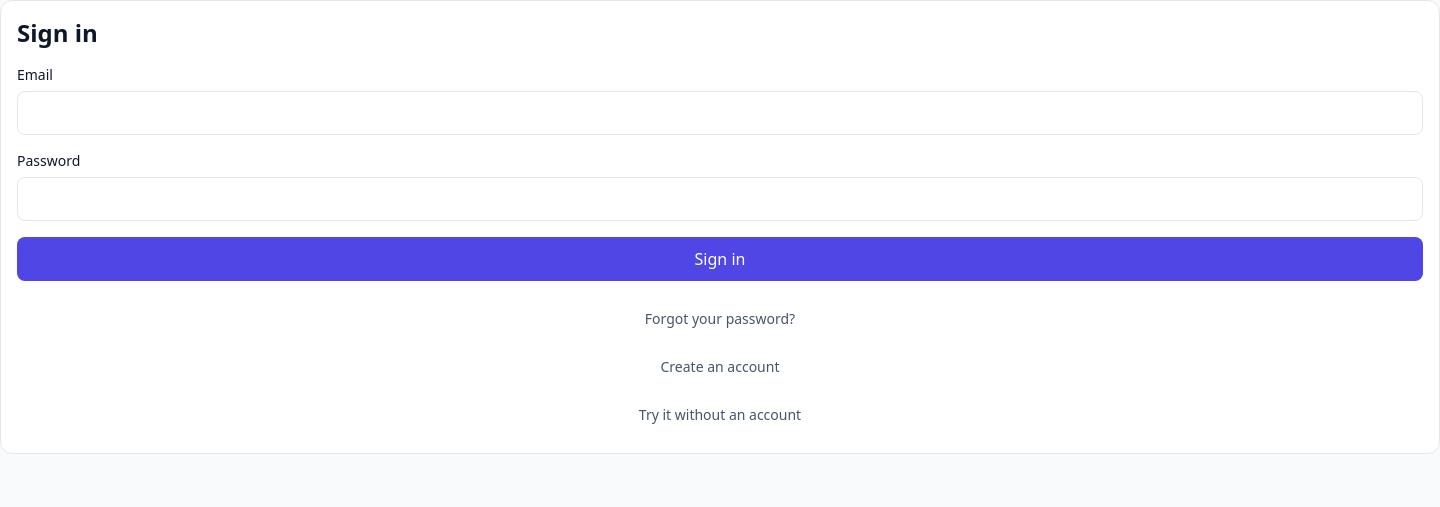
AuthForm › shows a friendly error when Supabase refuses
Type "sam@example.com" into the field labelled "Email".
click(720, 113); type("sam@example.com")  # box x1=17 y1=91 x2=1423 y2=135
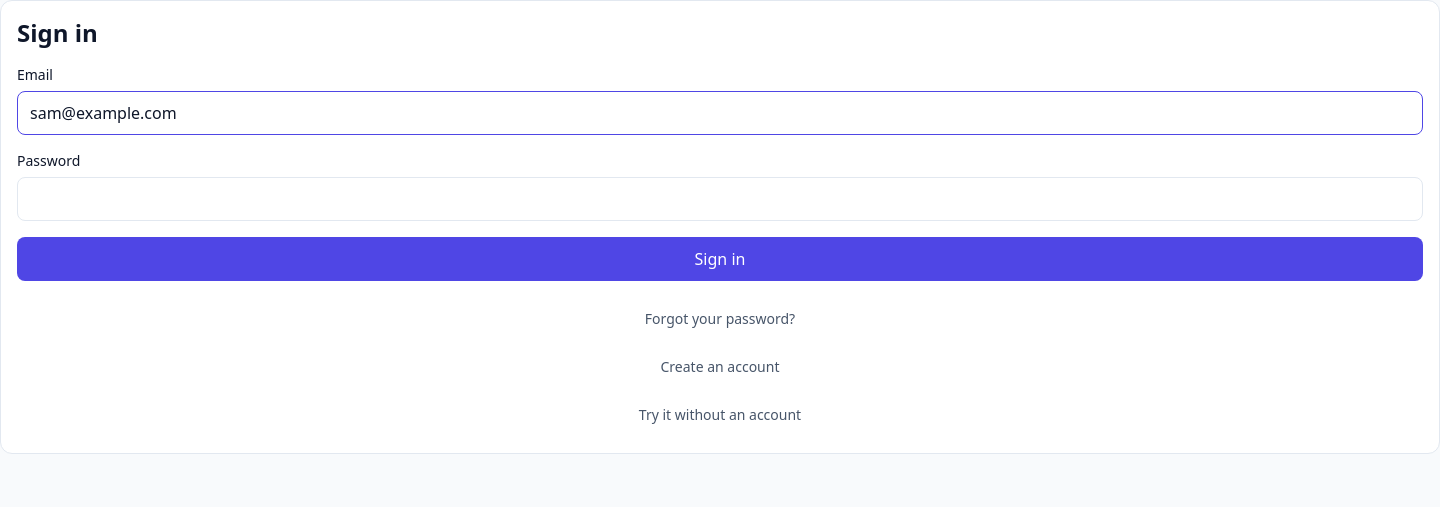
Type "wrong-password" into the password field labelled "Password".
click(720, 199); type("wrong-password")  # box x1=17 y1=177 x2=1423 y2=221
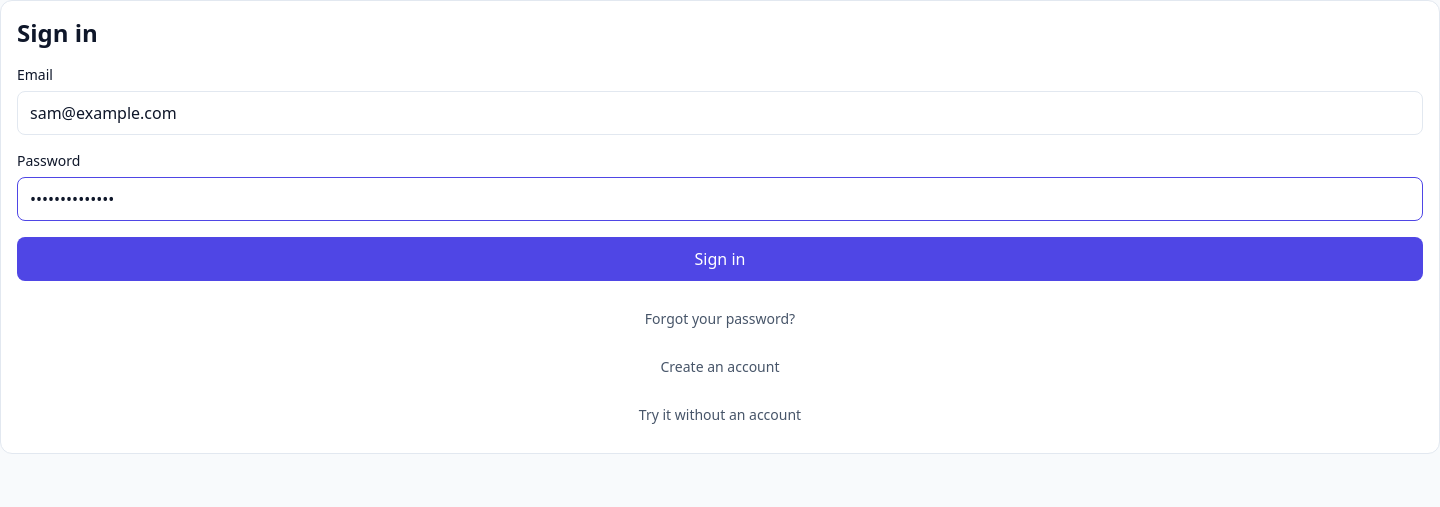
Click the button "Sign in".
click(720, 259)  # box x1=17 y1=237 x2=1423 y2=281
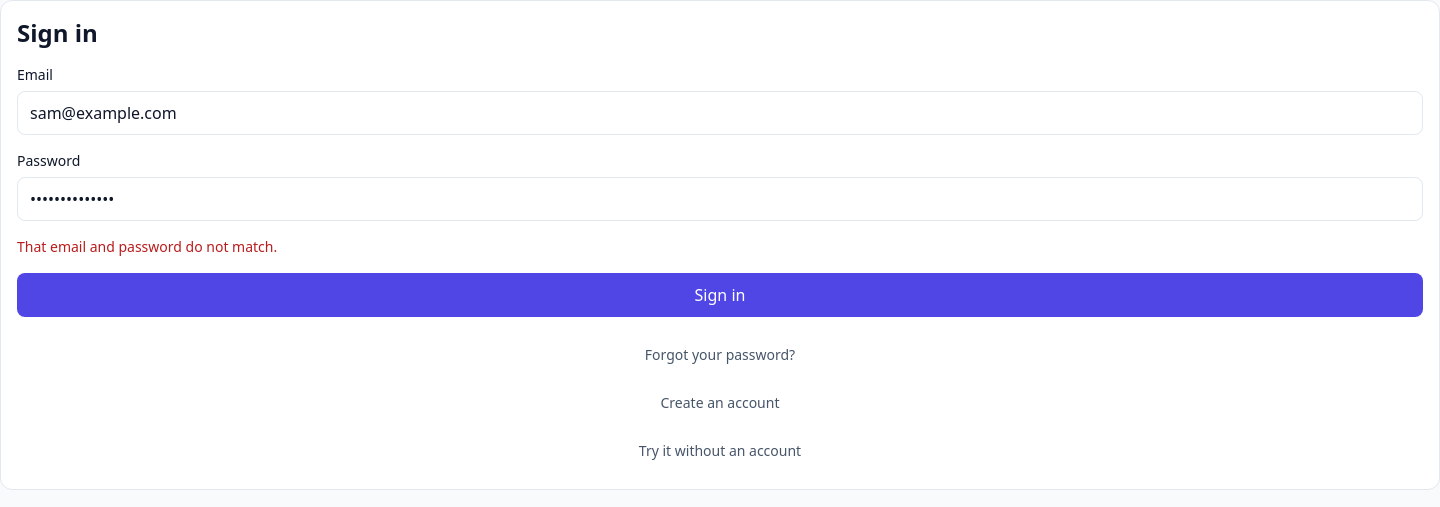
expect the message reads "That email and password do not match.": met, box x1=17 y1=237 x2=277 y2=256
